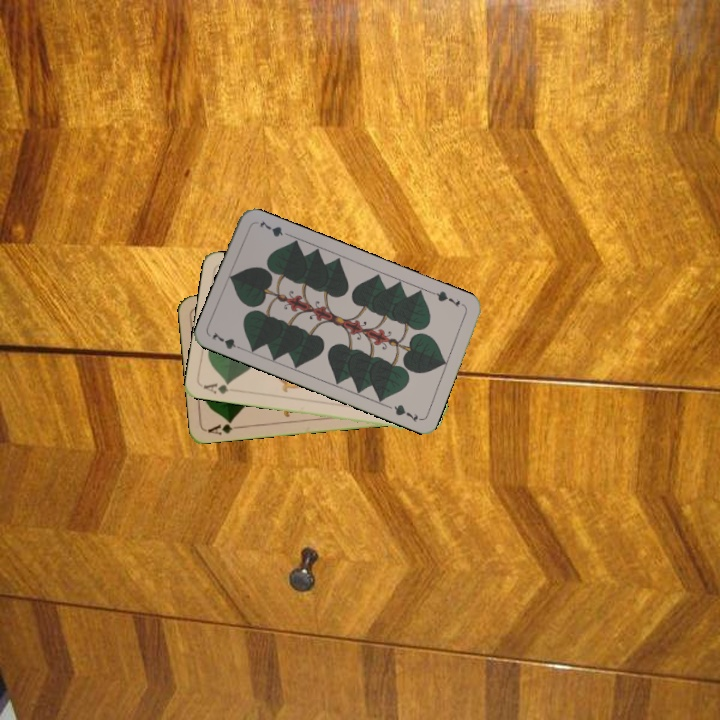G7: (208, 328, 247, 353), (428, 287, 467, 309)
GA: (204, 416, 244, 438), (199, 378, 232, 396)
